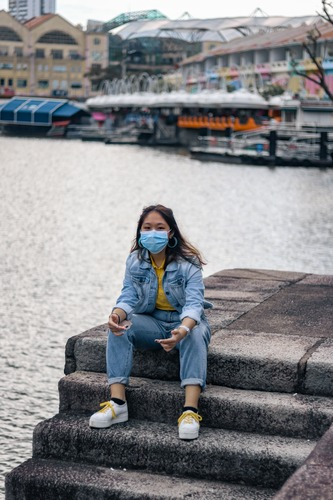with_mask: (138, 213, 167, 250)
